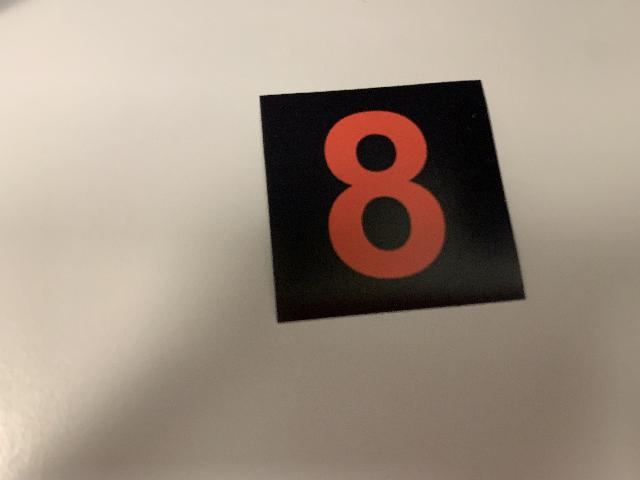eight: (257, 79, 530, 324)
